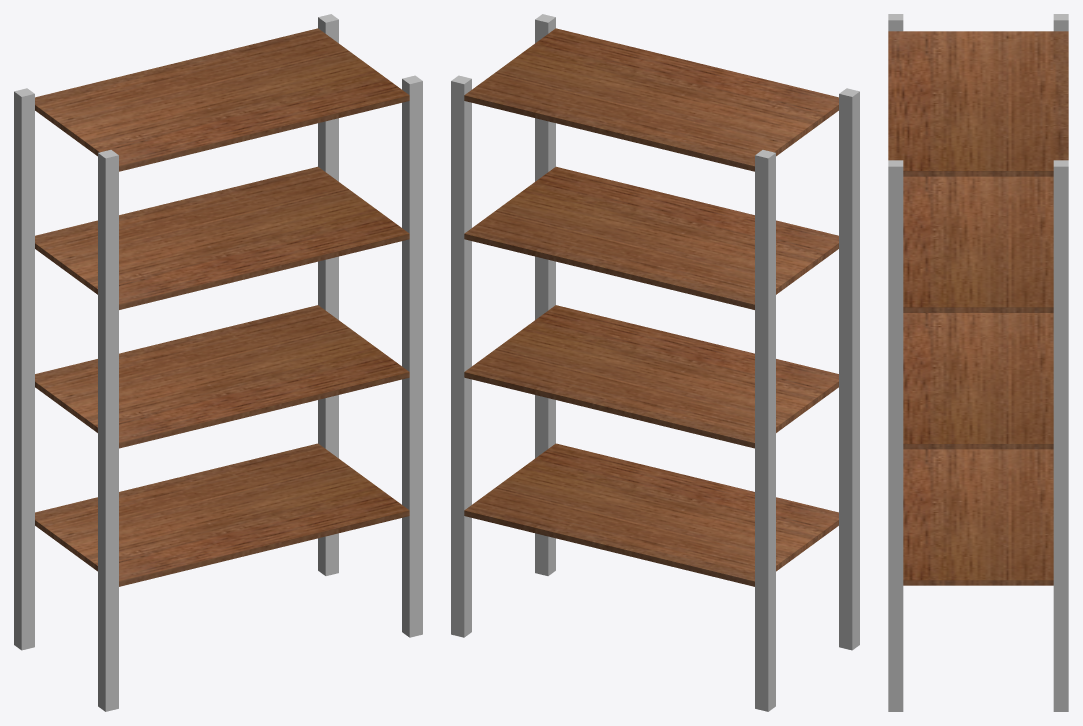
Rendered from Shelf.fbx.
3 renders of one model, left to right at view 1: azimuth 30°, elevation 25°; view 2: azimuth 150°, elevation 25°; view 3: azimuth 270°, elevation 25°, orthographic.
Visible parts, largest first — view 1: cuboid; view 2: cuboid; view 3: cuboid.
Boxes of the visible parts, bbox=[...] form: cuboid: bbox=[14, 14, 422, 711]; cuboid: bbox=[451, 14, 859, 711]; cuboid: bbox=[888, 14, 1068, 711].
Size of the model in its own units: 75 by 125 by 37.5.
